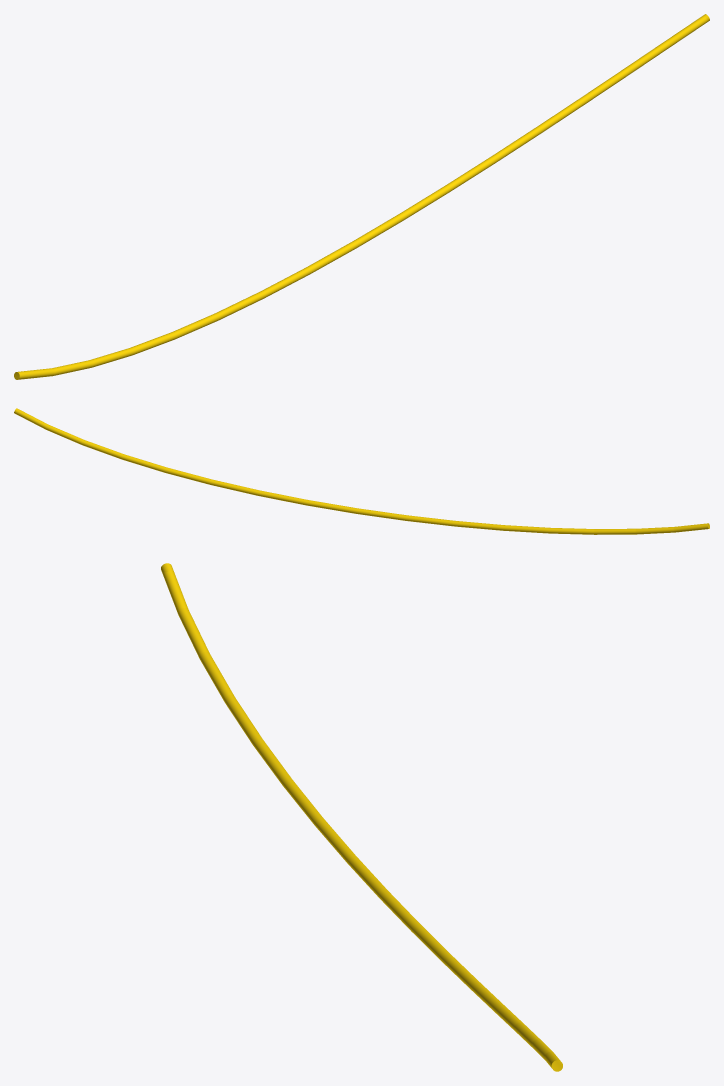
Rendered from Event_421278790_track_45.fbx.
3 renders of one model, top to bottom at view 1: azimuth 30°, elevation 25°; view 2: azimuth 150°, elevation 25°; view 3: azimuth 270°, elevation 25°, orthographic. The views are drawn at different scales.
Parts seen in each view (by area): view 1: Model; view 2: Model; view 3: Model.
Boxes of the visible parts, x1,y1,x2,y2 form: Model: (14, 14, 709, 379); Model: (14, 408, 709, 534); Model: (161, 563, 562, 1071).
Size of the model in its own units: 4.77 by 0.5264 by 1.39.
